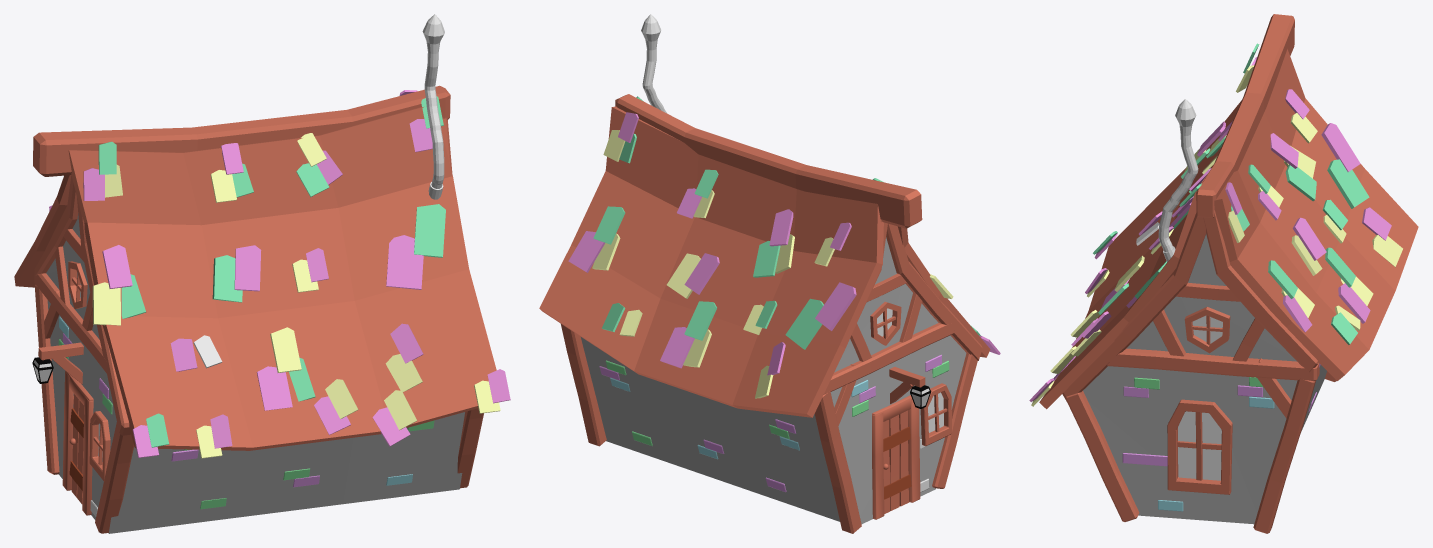
File: Cabin.fbx
The picture shows the model from 3 angles, left to right: view 1: azimuth 30°, elevation 25°; view 2: azimuth 150°, elevation 25°; view 3: azimuth 270°, elevation 25°; orthographic projection. The views are drawn at different scales.
Visible parts, largest first — view 1: Plane.022, Plane.010, Cube.027, Plane.013, Icosphere.001, Cylinder, Cube.003, Cube.004, Plane.011, Cube.104, Cube.006, Cube.005 (+31 smaller); view 2: Plane.011, Plane.012, Plane.013, Cube.027, Icosphere.001, Cube.004, Cube.006, Cube.005, Cube.001, Cube.003, Cylinder, Plane.022 (+15 smaller); view 3: Plane.011, Plane.014, Plane.022, Cube.027, Cube.002, Cube.018, Cube.019, Plane.020, Cube.001, Cube.015, Plane.017, Cylinder (+20 smaller).
Boxes of the visible parts, x1=… form: Plane.022: x1=68, y1=107, x2=496, y2=450; Plane.010: x1=108, y1=412, x2=464, y2=533; Cube.027: x1=33, y1=85, x2=450, y2=176; Plane.013: x1=46, y1=213, x2=116, y2=519; Icosphere.001: x1=62, y1=371, x2=93, y2=515; Cylinder: x1=422, y1=14, x2=444, y2=199; Cube.003: x1=95, y1=422, x2=134, y2=533; Cube.004: x1=34, y1=284, x2=59, y2=474; Plane.011: x1=14, y1=175, x2=71, y2=287; Cube.104: x1=386, y1=235, x2=423, y2=289; Cube.006: x1=77, y1=198, x2=130, y2=435; Cube.005: x1=34, y1=271, x2=107, y2=373; Plane.011: x1=539, y1=106, x2=883, y2=417; Plane.012: x1=581, y1=337, x2=839, y2=521; Plane.013: x1=830, y1=237, x2=966, y2=523; Cube.027: x1=615, y1=94, x2=922, y2=228; Icosphere.001: x1=872, y1=395, x2=920, y2=519; Cube.004: x1=814, y1=391, x2=861, y2=533; Cube.006: x1=886, y1=223, x2=982, y2=360; Cube.005: x1=823, y1=322, x2=954, y2=394; Cube.001: x1=561, y1=324, x2=606, y2=446; Cube.003: x1=932, y1=353, x2=977, y2=488; Cylinder: x1=641, y1=14, x2=667, y2=113; Plane.022: x1=898, y1=226, x2=990, y2=357; Plane.011: x1=1214, y1=49, x2=1418, y2=380; Plane.014: x1=1083, y1=234, x2=1297, y2=524; Plane.022: x1=1039, y1=100, x2=1241, y2=409; Cube.027: x1=1196, y1=14, x2=1294, y2=217; Cube.002: x1=1107, y1=348, x2=1319, y2=381; Cube.018: x1=1062, y1=212, x2=1205, y2=401; Cube.019: x1=1203, y1=210, x2=1318, y2=372; Plane.020: x1=1167, y1=399, x2=1232, y2=494; Cube.001: x1=1253, y1=378, x2=1315, y2=533; Cube.015: x1=1065, y1=391, x2=1139, y2=521; Plane.017: x1=1178, y1=315, x2=1222, y2=480; Cylinder: x1=1158, y1=99, x2=1198, y2=262.
Bounding box in the file's own units: 1763 × 1928 × 1603.
